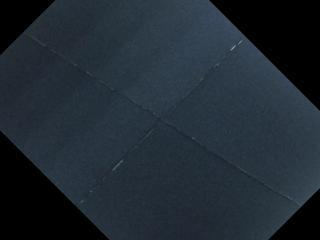crack: (20, 31, 304, 209), (74, 35, 248, 209)
